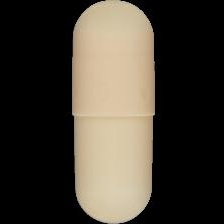0093-5503: (0, 0, 224, 224)
